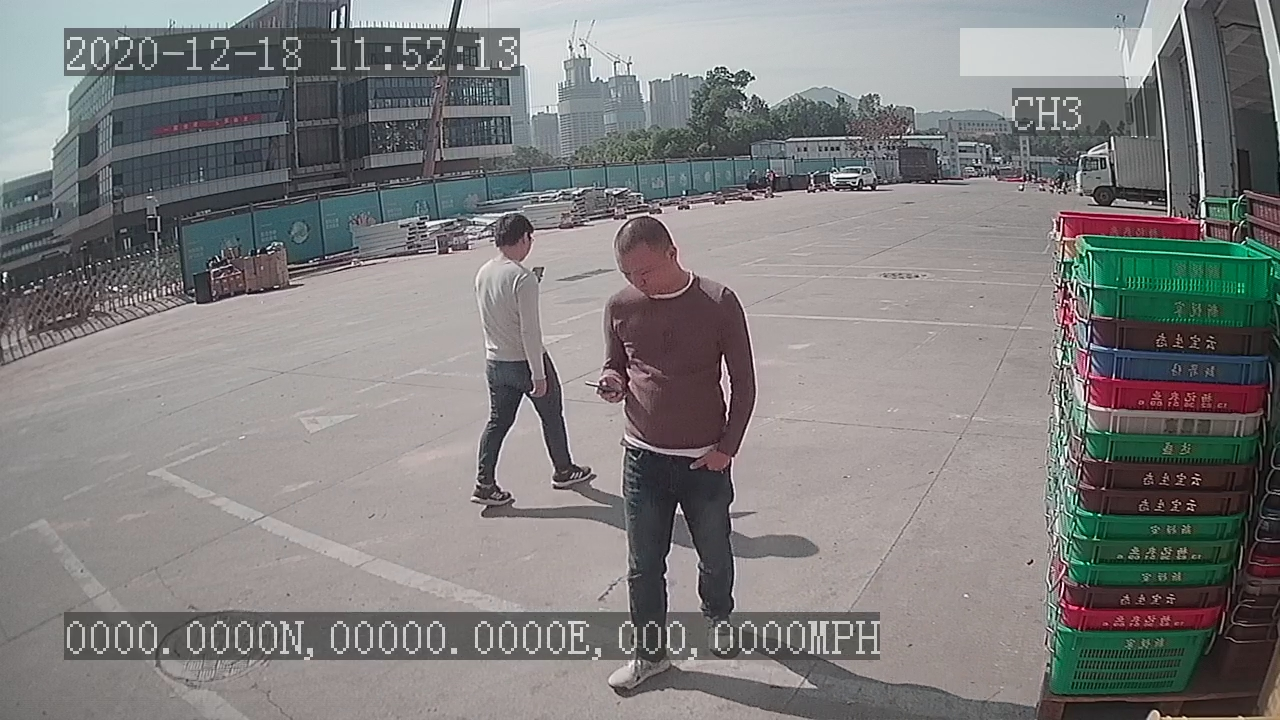person: (465, 210, 597, 517)
